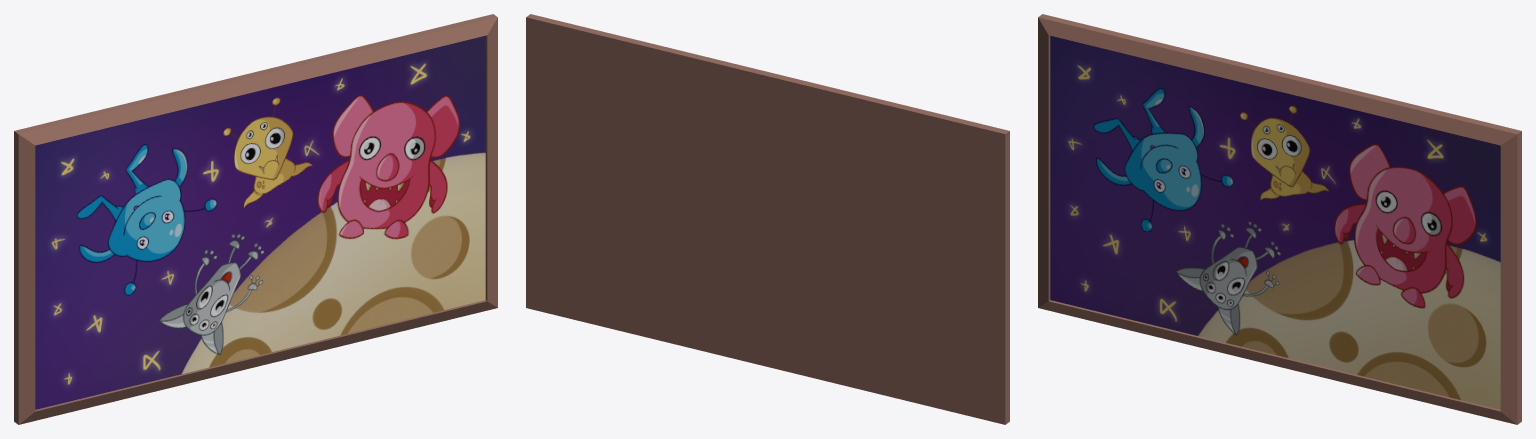
File: picture.norma.fbx
3 views of the same model, side by side, from view 1: azimuth 30°, elevation 25°; view 2: azimuth 150°, elevation 25°; view 3: azimuth 330°, elevation 25° (orthographic).
Parts seen in each view (by area): view 1: Plane; view 2: Plane; view 3: Plane.
Boxes of the visible parts, x1=… form: Plane: x1=14, y1=14, x2=497, y2=424; Plane: x1=526, y1=14, x2=1009, y2=424; Plane: x1=1038, y1=14, x2=1521, y2=424.
Size of the model in its own units: 127 by 73.76 by 3.52.
